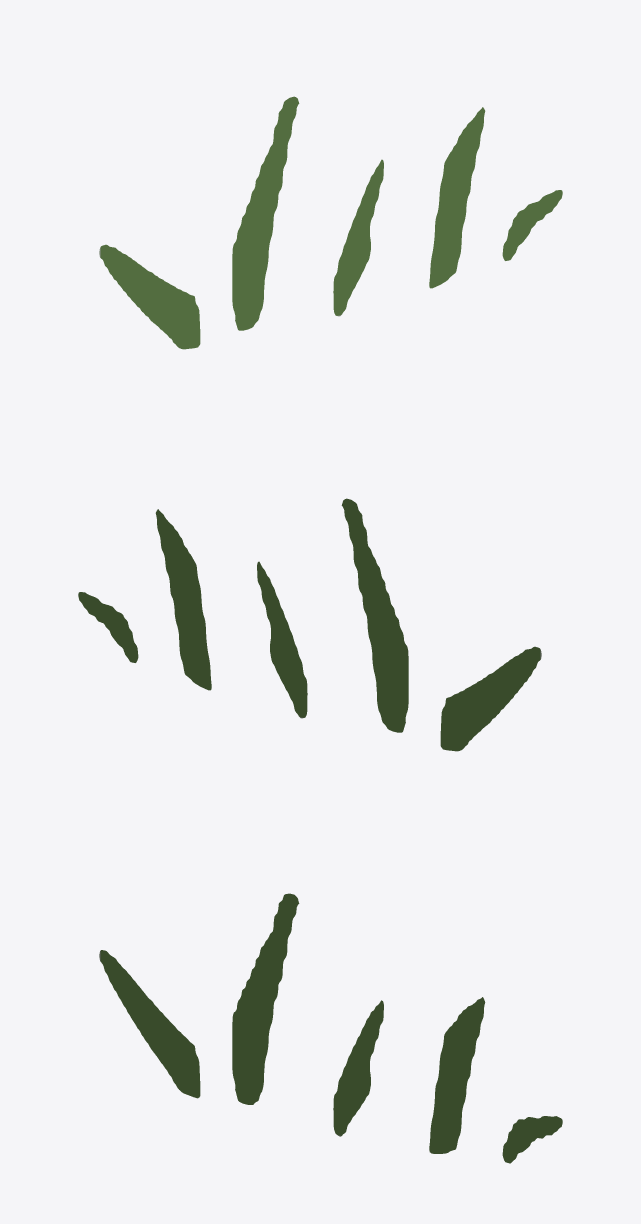
The model's file is SM_Grass_05.fbx.
3 renders of one model, top to bottom at view 1: azimuth 30°, elevation 25°; view 2: azimuth 150°, elevation 25°; view 3: azimuth 330°, elevation 25°, orthographic.
Parts seen in each view (by area): view 1: SM_Grass_05; view 2: SM_Grass_05; view 3: SM_Grass_05.
Part boxes in pixels (left/top/right/bottom): SM_Grass_05: left=99, top=96, right=562, bottom=349; SM_Grass_05: left=78, top=498, right=541, bottom=751; SM_Grass_05: left=99, top=893, right=562, bottom=1163.
Bounding box in the file's own units: 78.17 × 38.52 × 0.
1 material, 1 textured.
